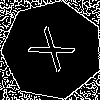X: (27, 25, 85, 79)
